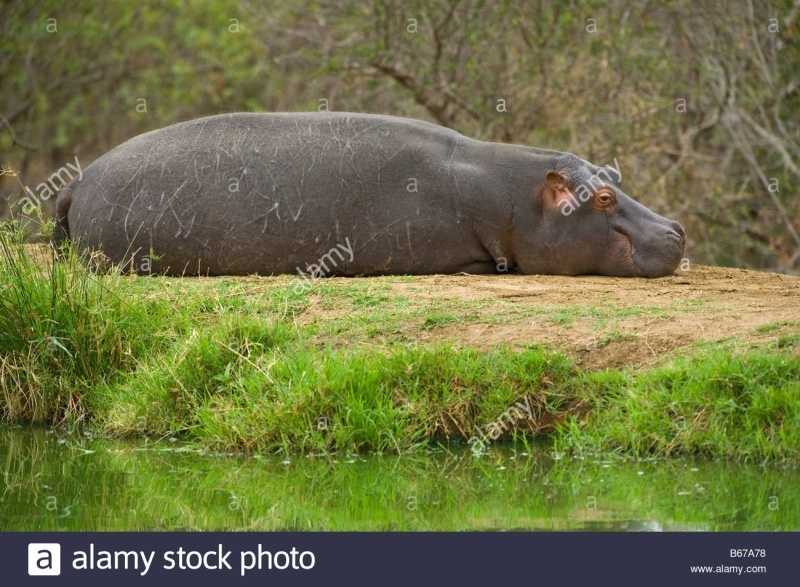hipopotamo: (38, 82, 694, 295)
